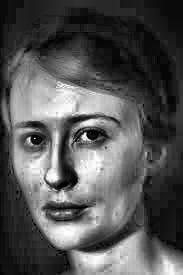sad: (0, 115, 171, 251)
